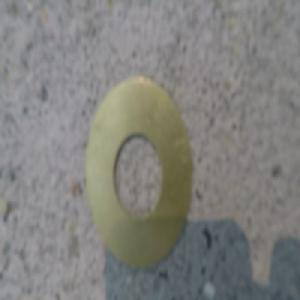Washer: (84, 71, 192, 266)
